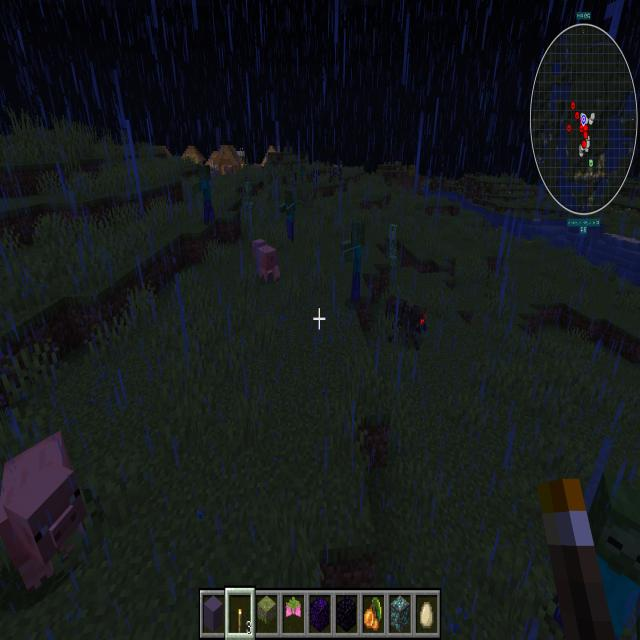Creeper: (383, 221, 401, 270), (243, 179, 256, 213)
Spider: (383, 292, 431, 359)
Zombie: (338, 217, 368, 309), (190, 162, 217, 226), (278, 187, 298, 245), (288, 164, 294, 191), (300, 165, 306, 191)
cow: (310, 167, 322, 185), (286, 171, 298, 186), (328, 166, 337, 185), (334, 165, 343, 183)
pig: (0, 422, 90, 611), (249, 236, 284, 288), (222, 164, 235, 178), (252, 161, 263, 173), (210, 168, 220, 181)
